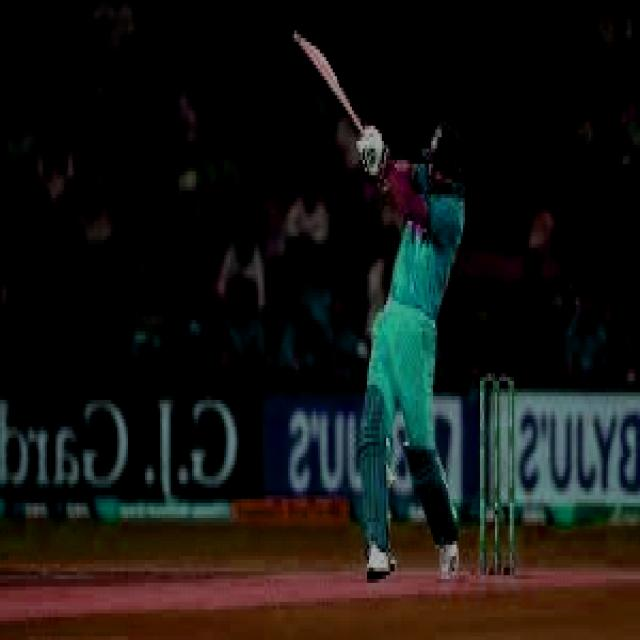toe: (288, 19, 318, 59)
